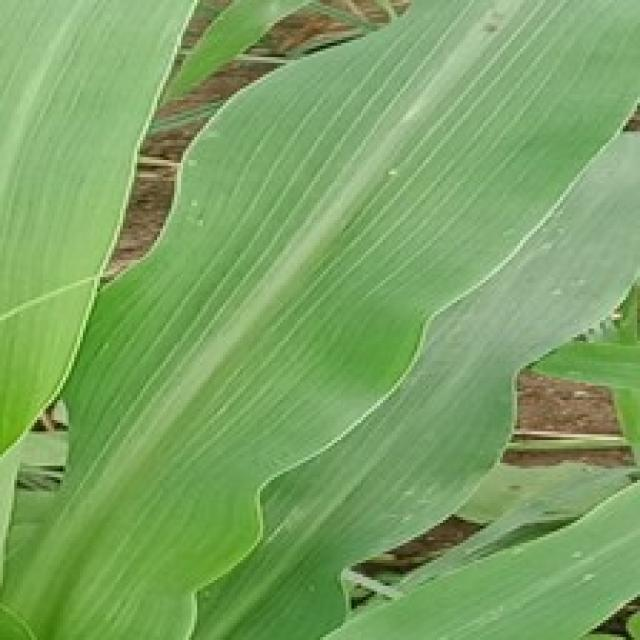Corn: (0, 0, 637, 637), (0, 0, 211, 637)
